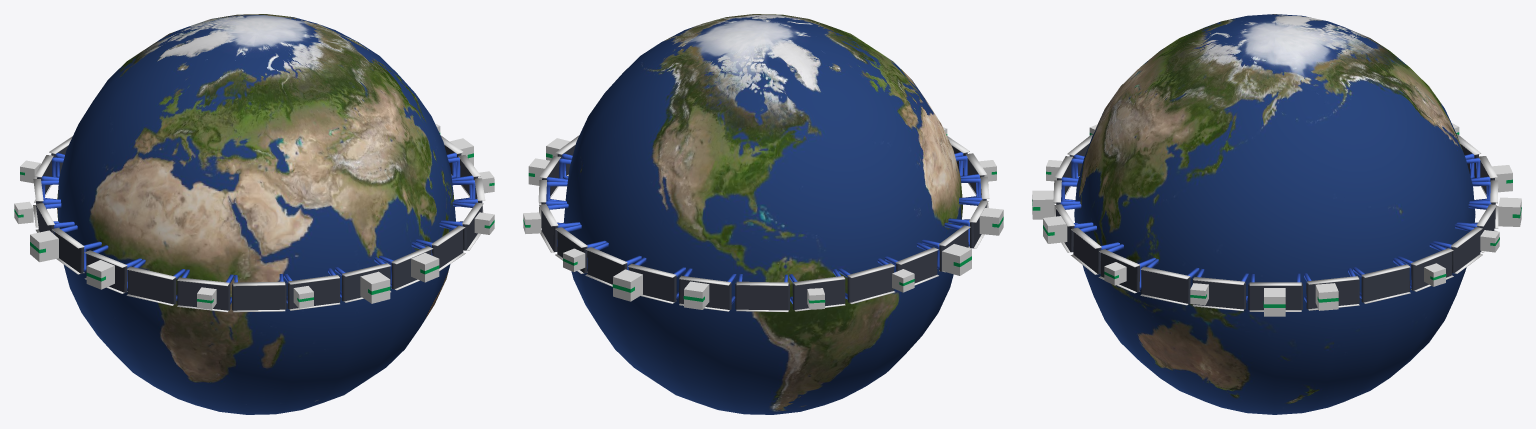
File: earth.dae
3 renders of one model, left to right at view 1: azimuth 30°, elevation 25°; view 2: azimuth 150°, elevation 25°; view 3: azimuth 270°, elevation 25°, orthographic.
Parts seen in each view (by area): view 1: pSphere1, Cube, Cube.001; view 2: pSphere1, Cube, Cube.001; view 3: pSphere1, Cube, Cube.001.
Part boxes in pixels (<box>): pSphere1: <box>57,14,455,414</box>; Cube: <box>33,135,485,312</box>; Cube.001: <box>14,123,494,309</box>; pSphere1: <box>563,14,962,414</box>; Cube: <box>538,135,989,312</box>; Cube.001: <box>523,127,1003,309</box>; pSphere1: <box>1074,14,1475,414</box>; Cube: <box>1053,134,1498,311</box>; Cube.001: <box>1032,123,1521,316</box>.
Bounding box in the file's own units: 12.39 × 12.38 × 10.14.
6 materials, 1 textured.
